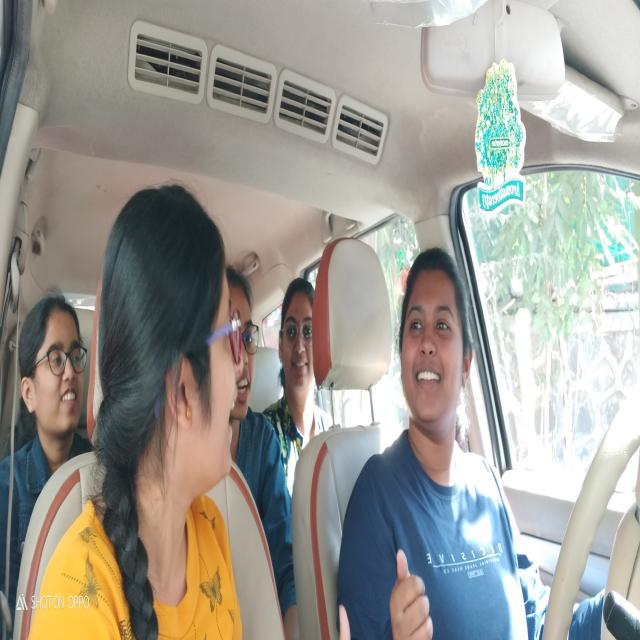LeftRight: (388, 232, 476, 452)
person: (105, 174, 246, 520), (15, 250, 90, 470), (224, 228, 262, 457), (276, 274, 319, 449)
